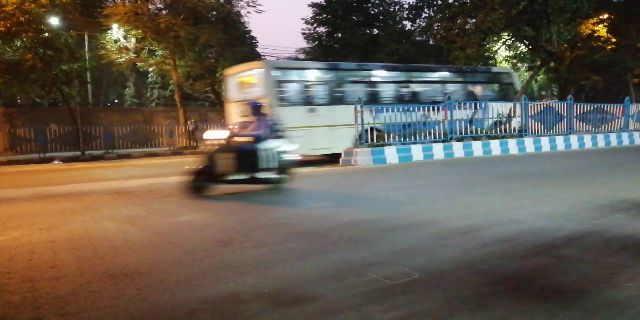Bus: (225, 55, 537, 154)
Motorbike: (185, 107, 299, 200)
